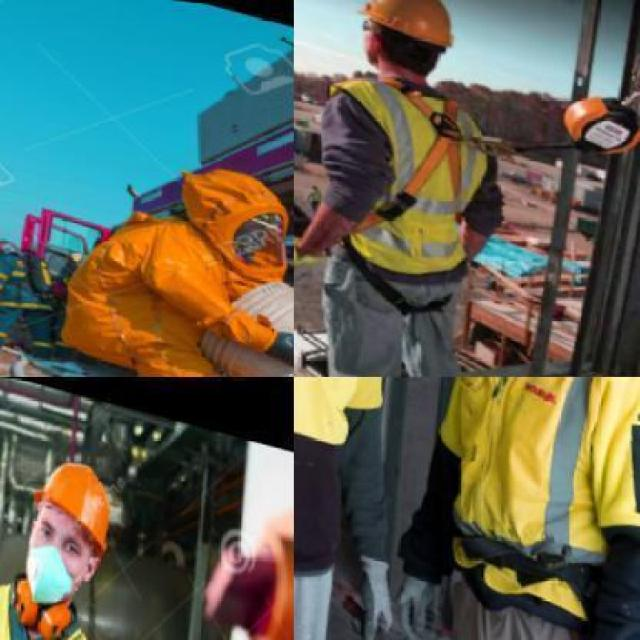Vest: (294, 40, 520, 295), (42, 184, 238, 376)
